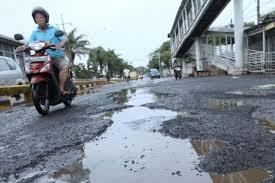Pothole: (68, 78, 275, 183), (10, 102, 271, 183)
